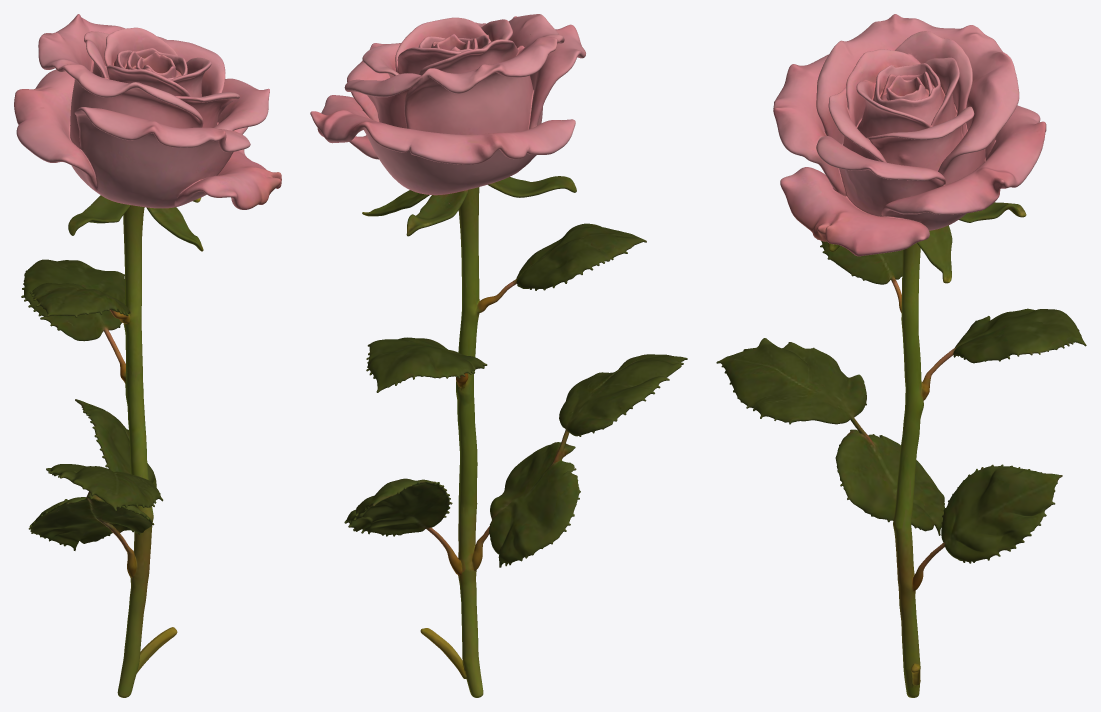
Rendered from pinkrose1.glb.
3 renders of one model, left to right at view 1: azimuth 30°, elevation 25°; view 2: azimuth 150°, elevation 25°; view 3: azimuth 270°, elevation 25°, orthographic. The views are drawn at different scales.
Visible parts, largest first — view 1: tripo_node_f1e4f391-3f5e-4f9a-96bb-7d44db8832a8; view 2: tripo_node_f1e4f391-3f5e-4f9a-96bb-7d44db8832a8; view 3: tripo_node_f1e4f391-3f5e-4f9a-96bb-7d44db8832a8.
Part boxes in pixels (bbox=[...]): tripo_node_f1e4f391-3f5e-4f9a-96bb-7d44db8832a8: bbox=[14, 14, 281, 697]; tripo_node_f1e4f391-3f5e-4f9a-96bb-7d44db8832a8: bbox=[310, 14, 687, 697]; tripo_node_f1e4f391-3f5e-4f9a-96bb-7d44db8832a8: bbox=[716, 14, 1086, 697].
Size of the model in its own units: 0.4222 by 1 by 0.5146.
Materials: 1 (1 with a texture image).
